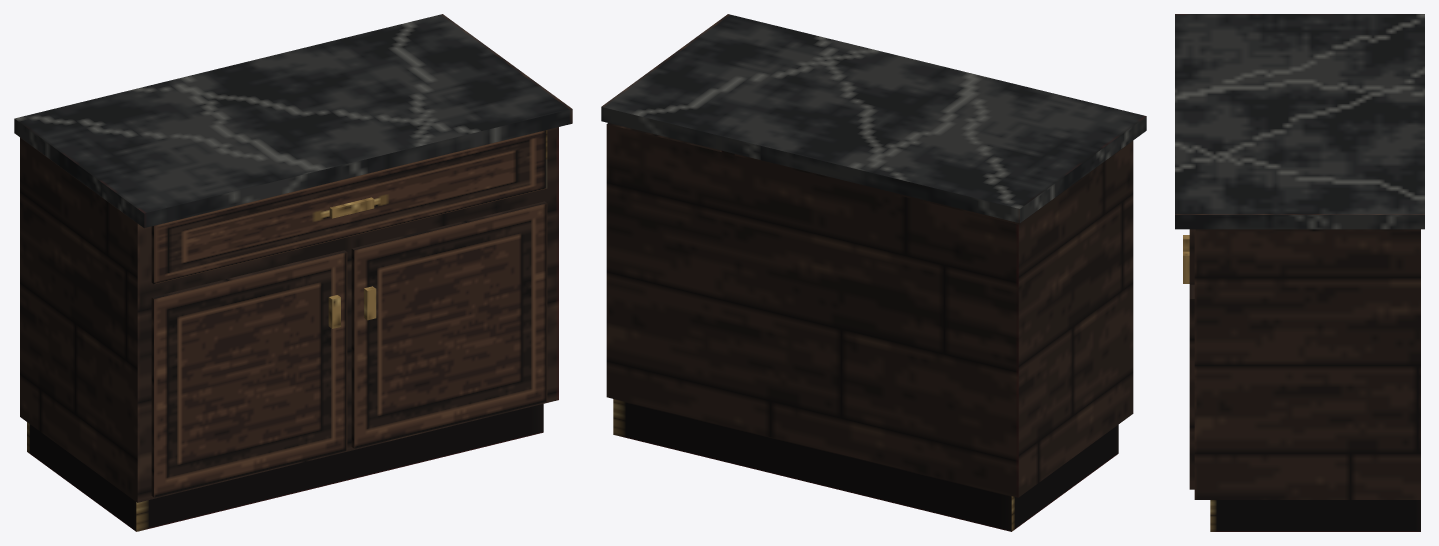
The model's file is Furn_Counter_Kitchen.fbx.
3 views of the same model, side by side, from view 1: azimuth 30°, elevation 25°; view 2: azimuth 150°, elevation 25°; view 3: azimuth 270°, elevation 25° (orthographic). The views are drawn at different scales.
Visible parts, largest first — view 1: Furn_Counter_Kitchen; view 2: Furn_Counter_Kitchen; view 3: Furn_Counter_Kitchen.
Part boxes in pixels (x1=…): Furn_Counter_Kitchen: x1=14, y1=14, x2=572, y2=531; Furn_Counter_Kitchen: x1=601, y1=14, x2=1146, y2=531; Furn_Counter_Kitchen: x1=1175, y1=14, x2=1424, y2=531.
Bounding box in the file's own units: 1.22 × 0.91 × 0.64.
